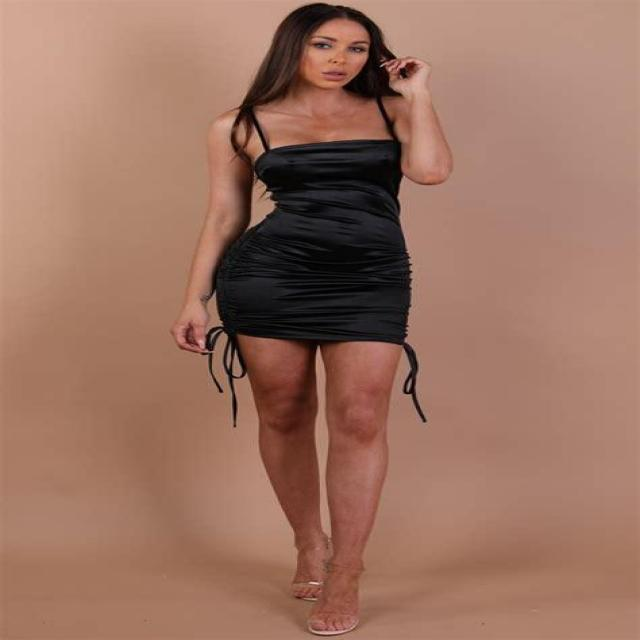dress: (215, 99, 413, 343)
